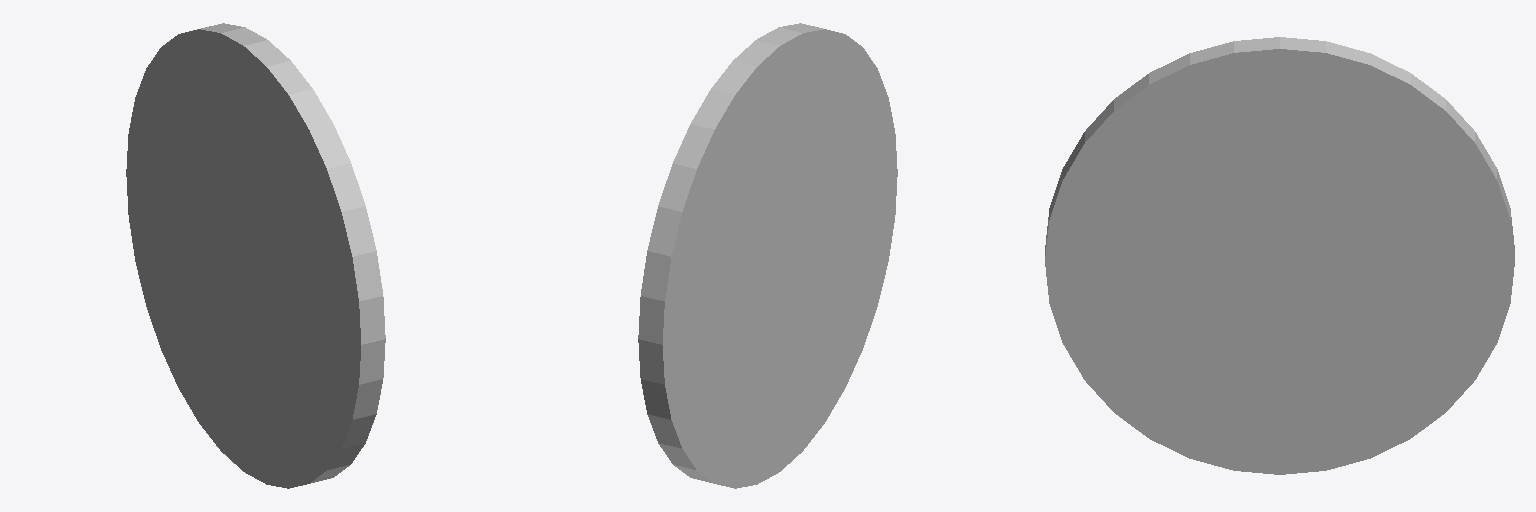
Rendered from TestCircle.obj.
The picture shows the model from 3 angles: view 1: azimuth 30°, elevation 25°; view 2: azimuth 150°, elevation 25°; view 3: azimuth 270°, elevation 25°; orthographic projection.
Visible parts, largest first — view 1: Cylinder; view 2: Cylinder; view 3: Cylinder.
Boxes of the visible parts, x1=… form: Cylinder: x1=126, y1=23, x2=385, y2=488; Cylinder: x1=638, y1=23, x2=897, y2=488; Cylinder: x1=1045, y1=37, x2=1514, y2=474.
Bounding box in the file's own units: 0.1196 × 2 × 2.